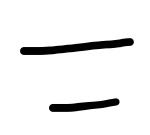eqv: (17, 38, 137, 113)
